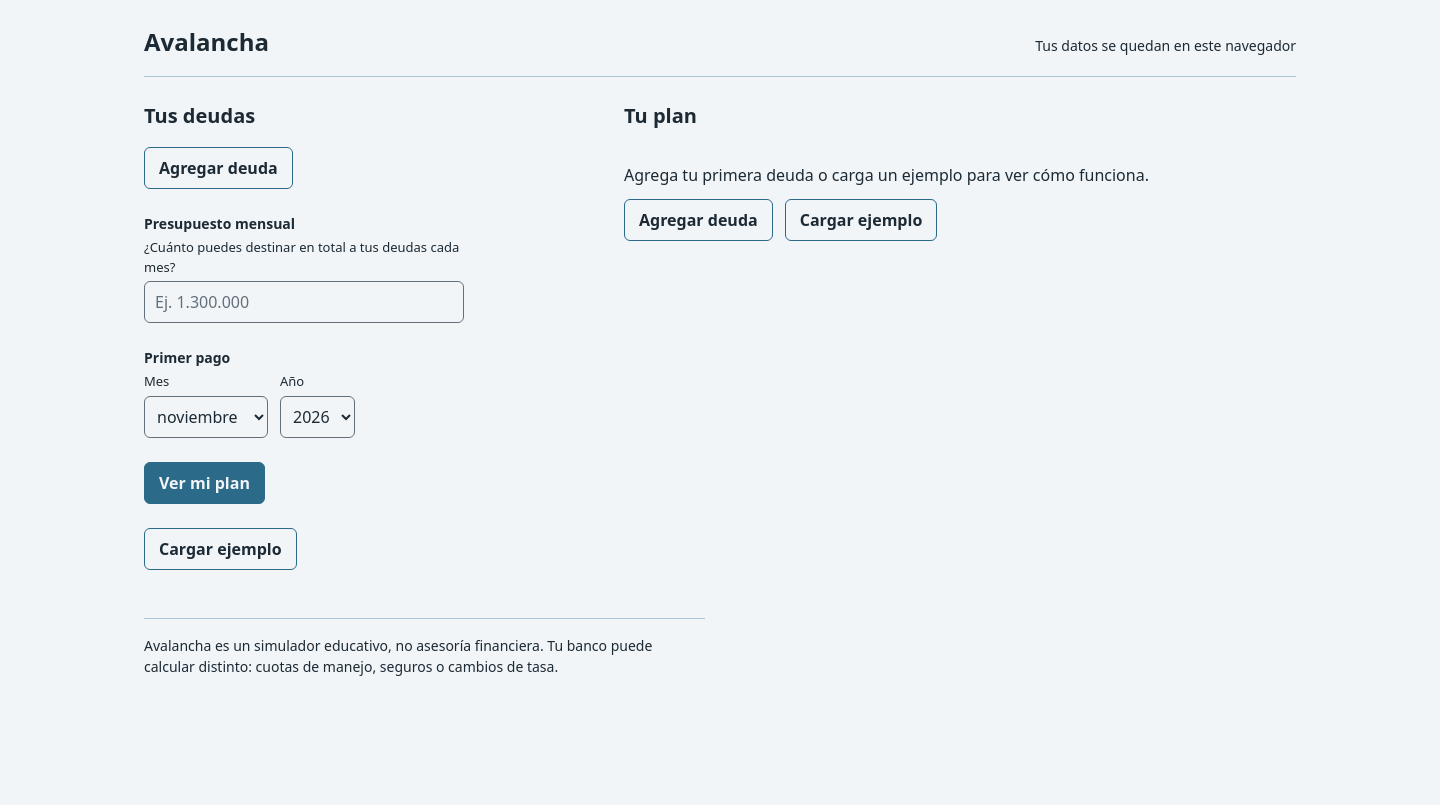
Test: App › adds an empty debt without showing errors, and pauses results quietly
Click the 1st button "Agregar deuda".
click(218, 168)  # box x1=144 y1=147 x2=293 y2=189
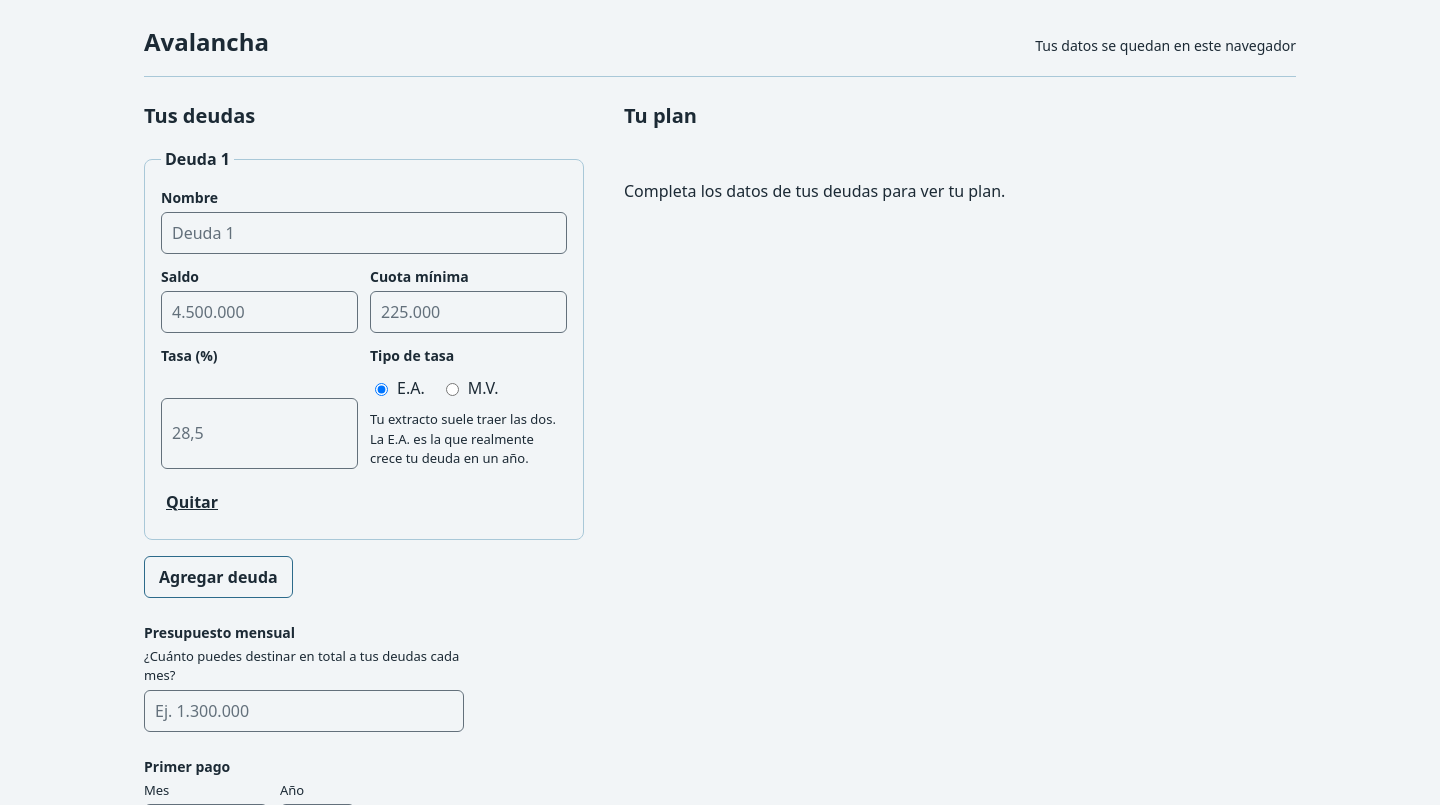
Now the text "Completa los datos de tus deudas para ver tu plan." is shown, box x1=624 y1=180 x2=1005 y2=202
